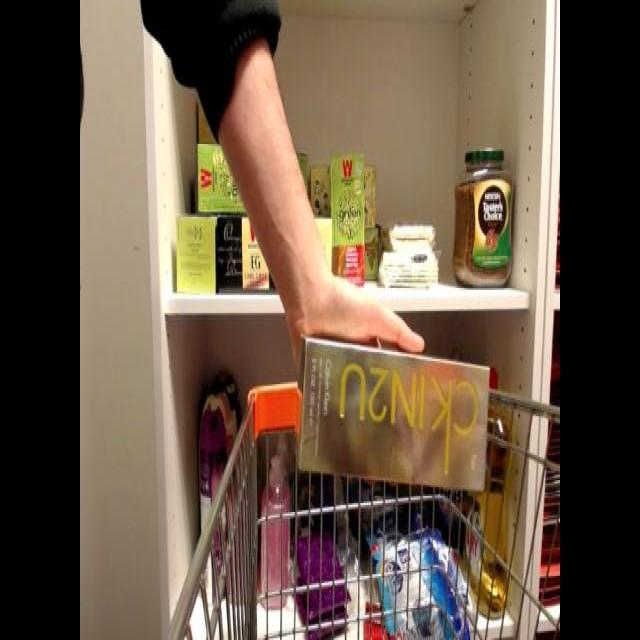Calvin Klein: (289, 318, 495, 494)
